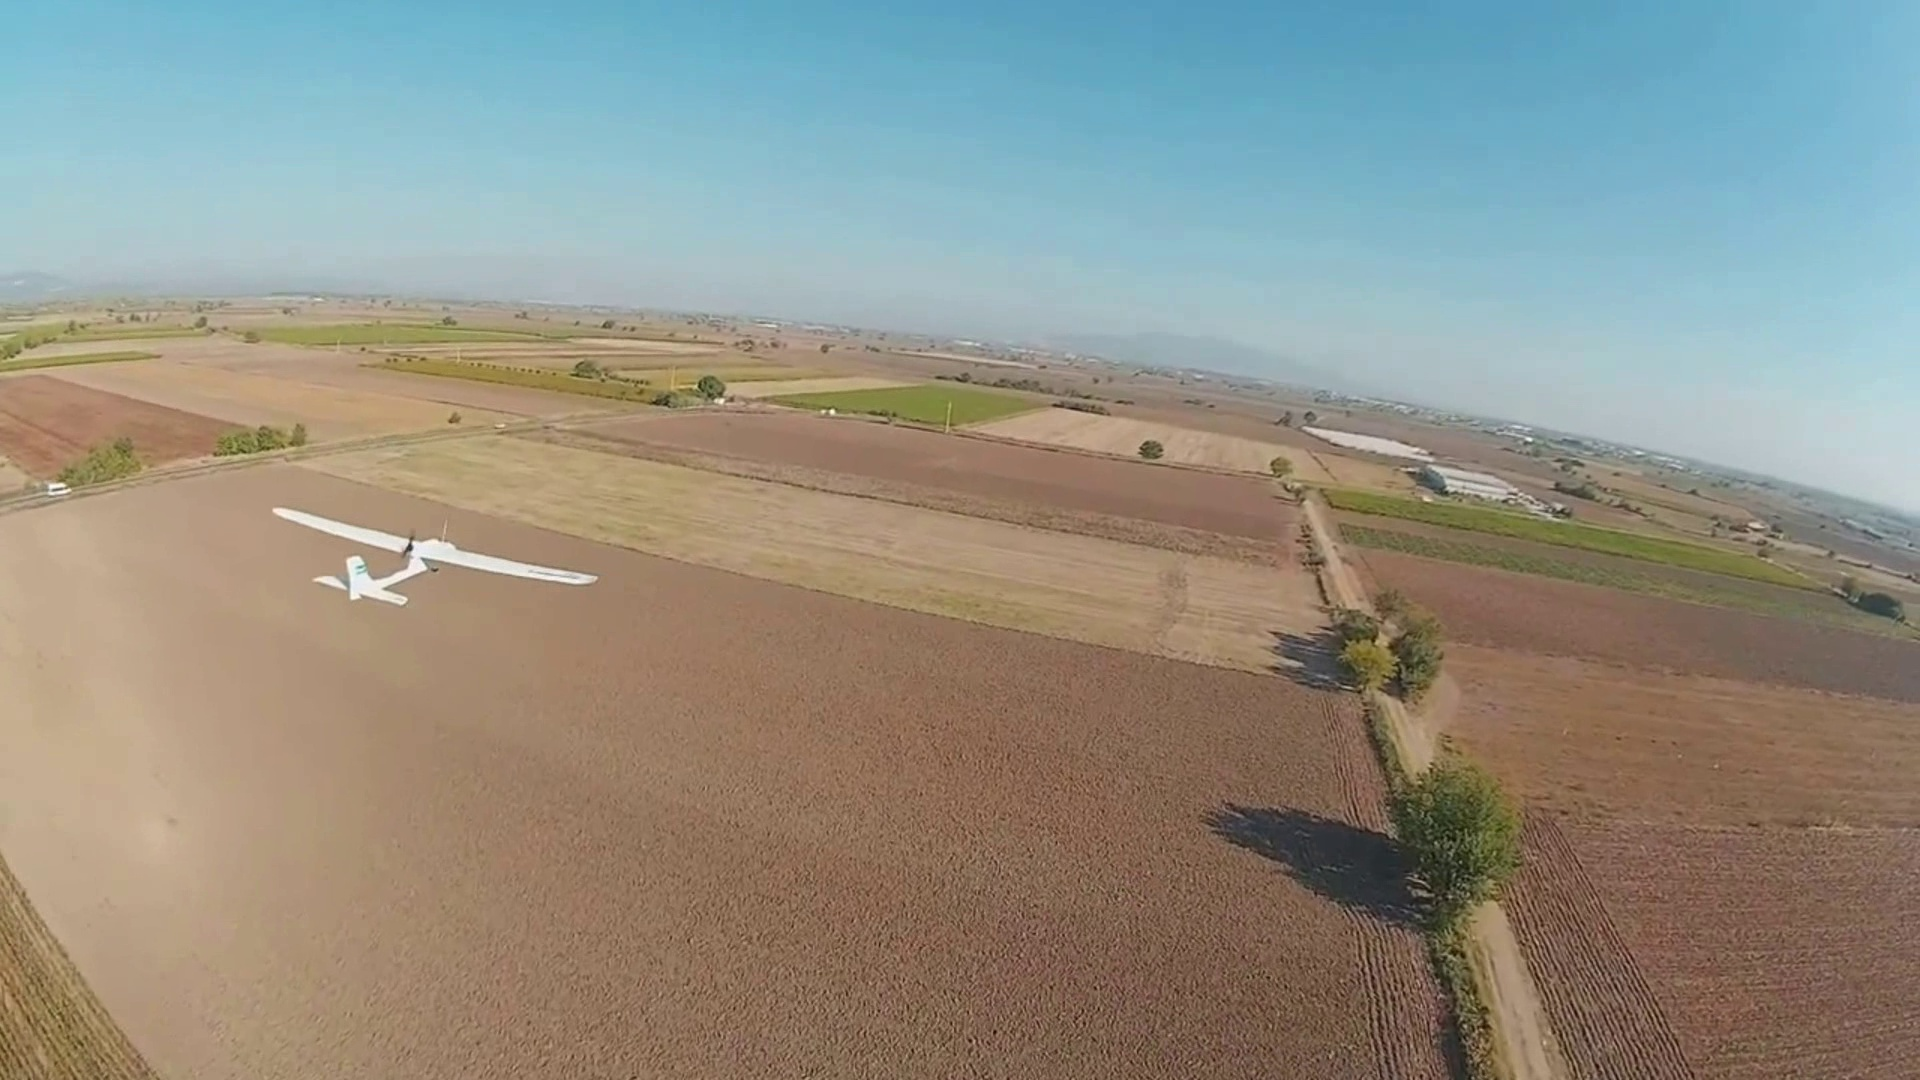airplane: (269, 495, 599, 607)
